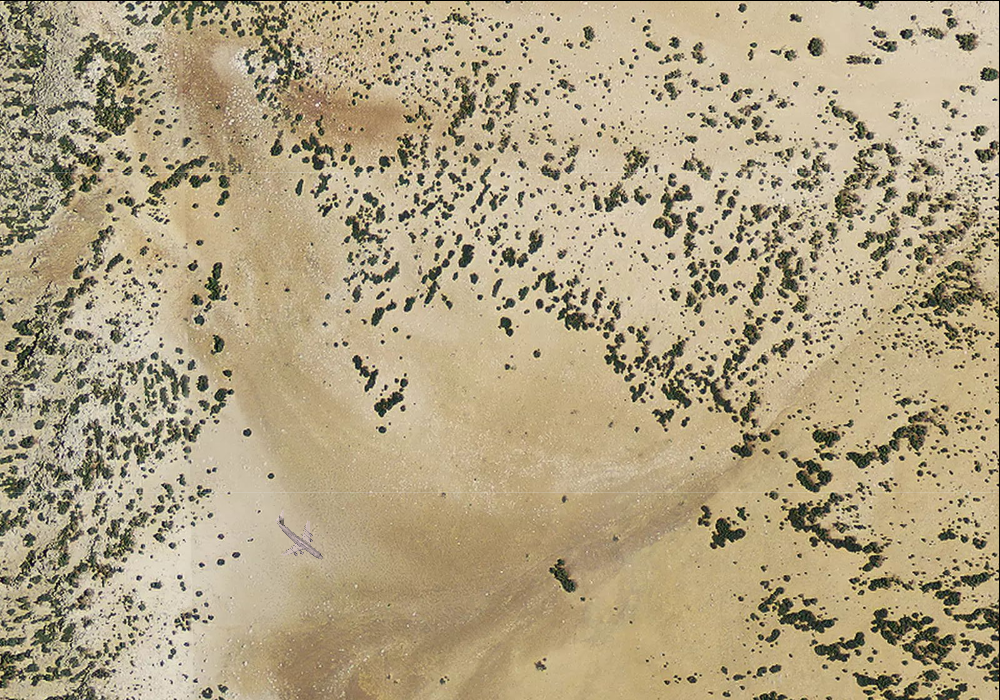plane: (257, 496, 341, 578)
